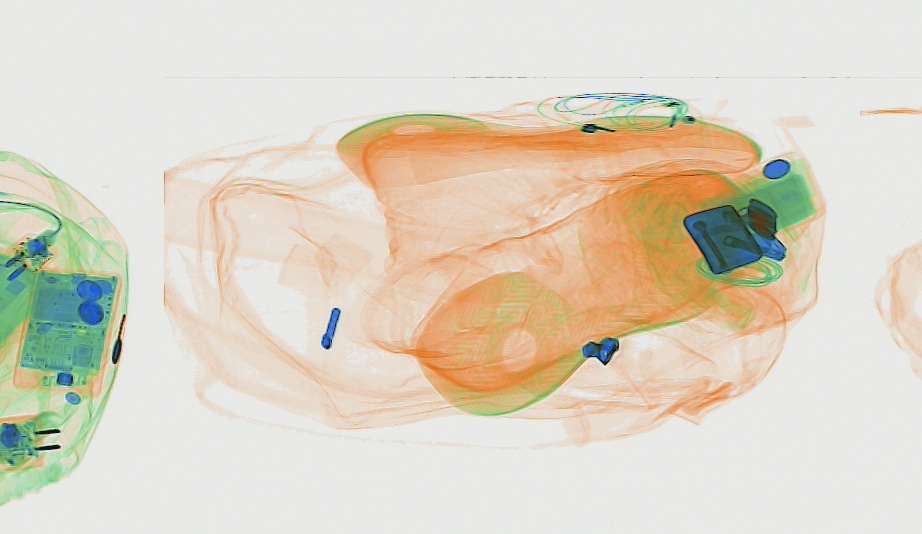lighter: (681, 201, 764, 275)
